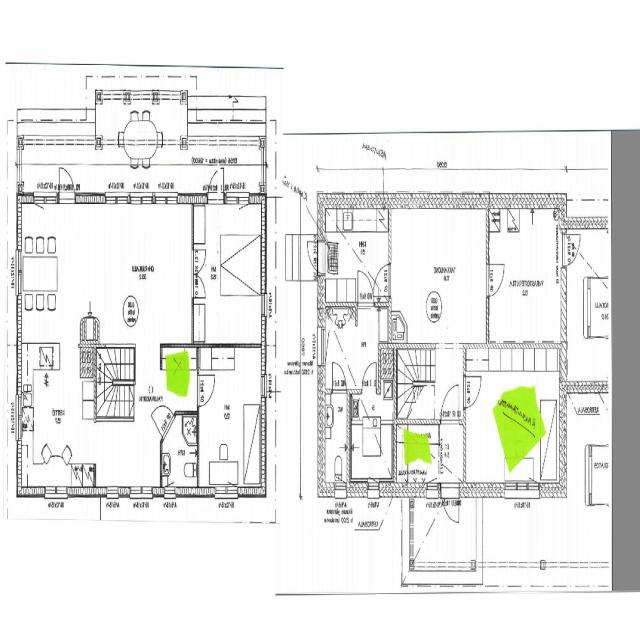door: (151, 392, 175, 440), (441, 482, 459, 532), (441, 384, 459, 424), (302, 242, 325, 273), (561, 234, 582, 266), (208, 162, 224, 204), (60, 162, 75, 204), (486, 264, 505, 296), (373, 264, 391, 296), (358, 270, 374, 306), (197, 375, 215, 406), (464, 377, 482, 407), (332, 361, 347, 394), (362, 361, 376, 394), (192, 250, 206, 274), (192, 274, 206, 297)
